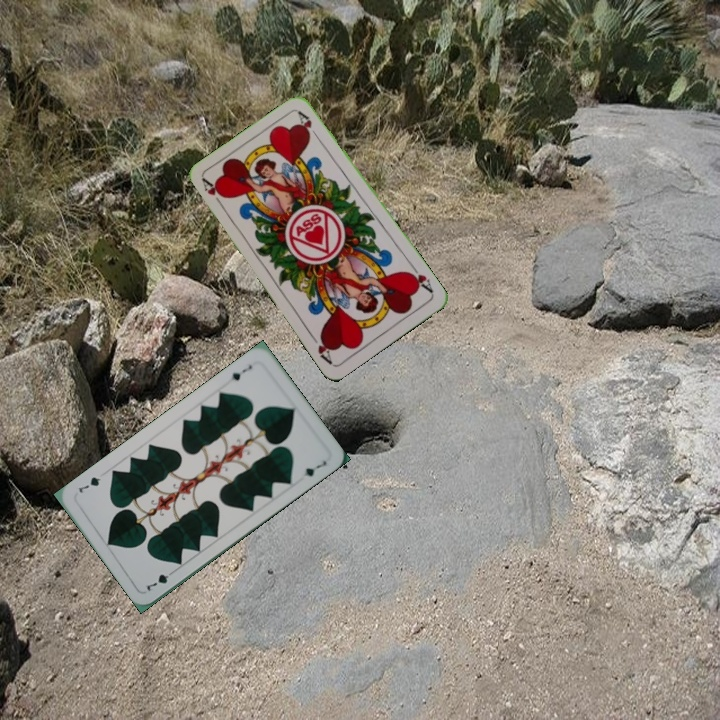G7: (142, 565, 178, 594), (223, 360, 255, 384)
HA: (403, 261, 436, 296), (198, 175, 228, 211)
